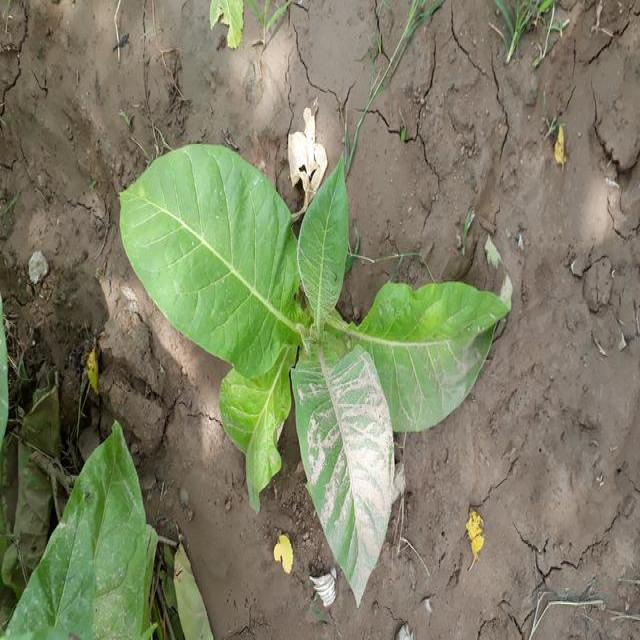crop: (111, 139, 498, 588), (17, 451, 214, 640)
